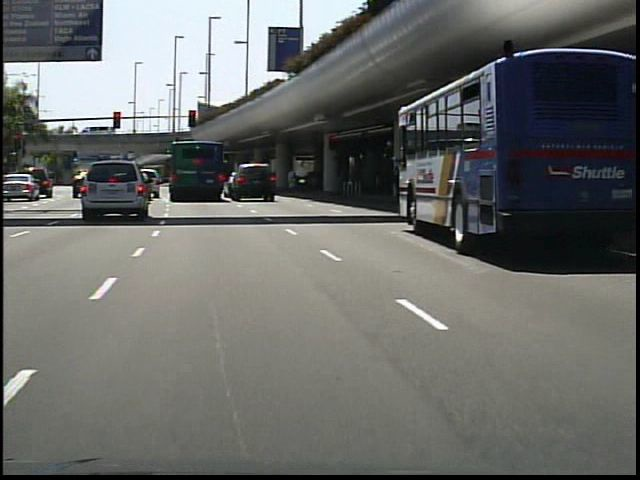person: (283, 160, 303, 198)
